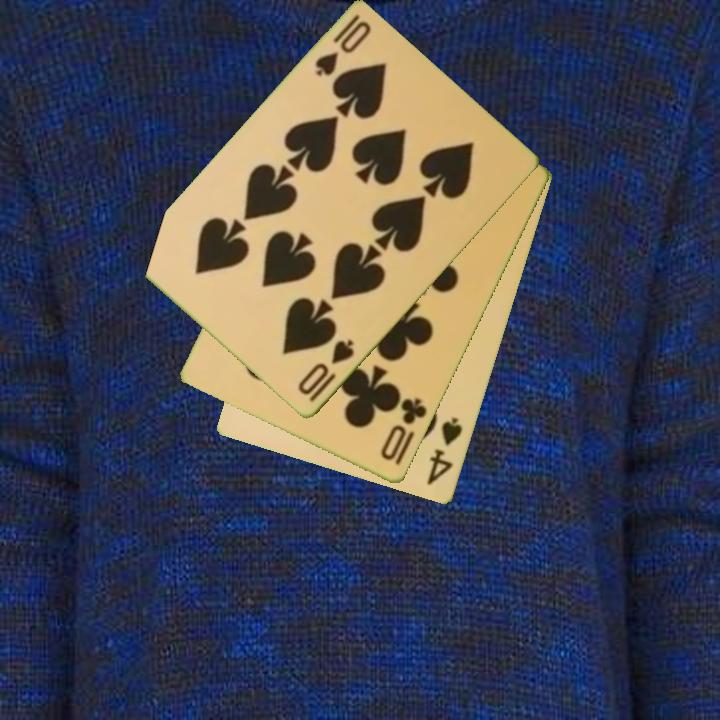10c: (377, 395, 430, 464)
10s: (311, 11, 375, 80), (294, 336, 357, 406)
4s: (423, 414, 466, 489)
